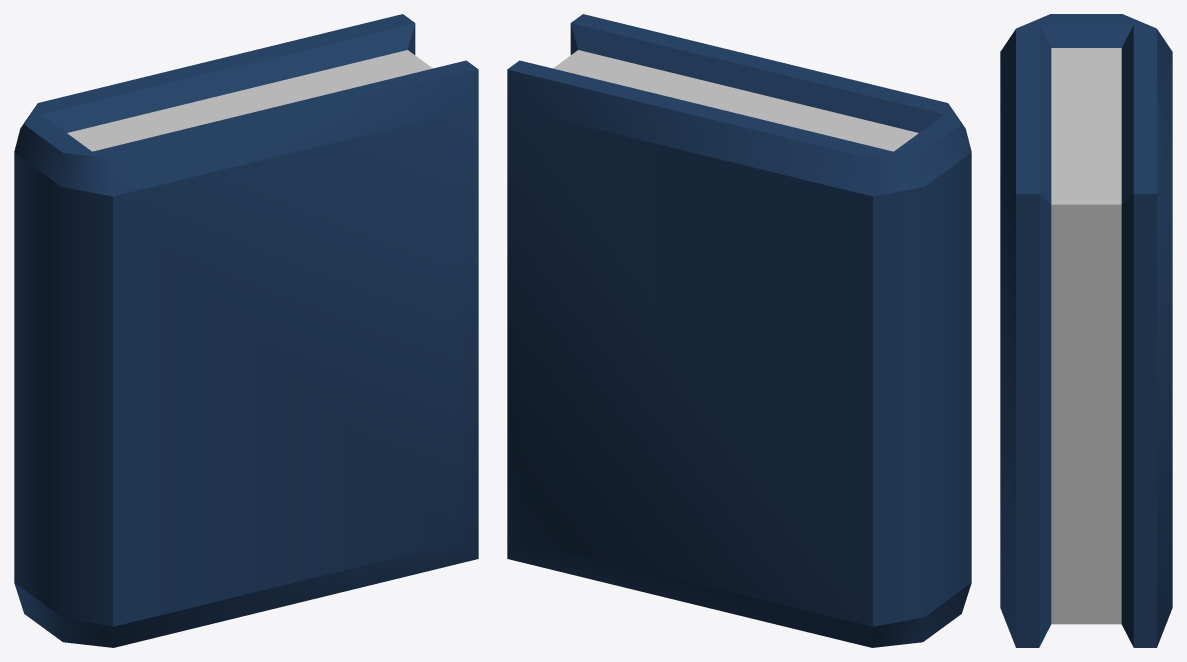
File: bookF.obj
3 renders of one model, left to right at view 1: azimuth 30°, elevation 25°; view 2: azimuth 150°, elevation 25°; view 3: azimuth 270°, elevation 25°, orthographic. The views are drawn at different scales.
Visible parts, largest first — view 1: bookF_Cube.4070; view 2: bookF_Cube.4070; view 3: bookF_Cube.4070.
Boxes of the visible parts, x1=… form: bookF_Cube.4070: x1=14, y1=14, x2=478, y2=647; bookF_Cube.4070: x1=507, y1=14, x2=971, y2=647; bookF_Cube.4070: x1=1000, y1=14, x2=1172, y2=647.
Size of the model in its own units: 0.3586 by 0.4161 by 0.1431.
